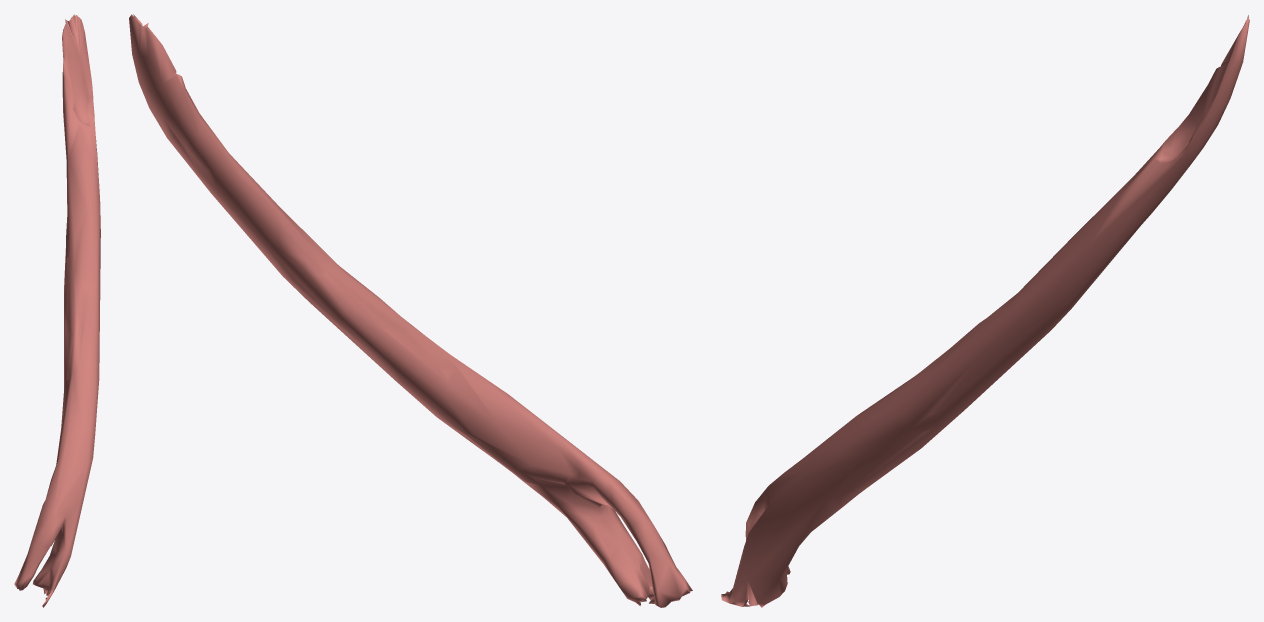
3 views of the same model, side by side, from view 1: azimuth 30°, elevation 25°; view 2: azimuth 150°, elevation 25°; view 3: azimuth 270°, elevation 25° (orthographic). The views are drawn at different scales.
Visible parts, largest first — view 1: ZA_41aa819d0b514924; view 2: ZA_41aa819d0b514924; view 3: ZA_41aa819d0b514924.
Boxes of the visible parts, box(x1,y1,x2,y2) form: ZA_41aa819d0b514924: box(14, 14, 100, 607); ZA_41aa819d0b514924: box(129, 14, 692, 607); ZA_41aa819d0b514924: box(721, 15, 1249, 607).
Size of the model in its own units: 0.0316 by 0.0628 by 0.0408.
